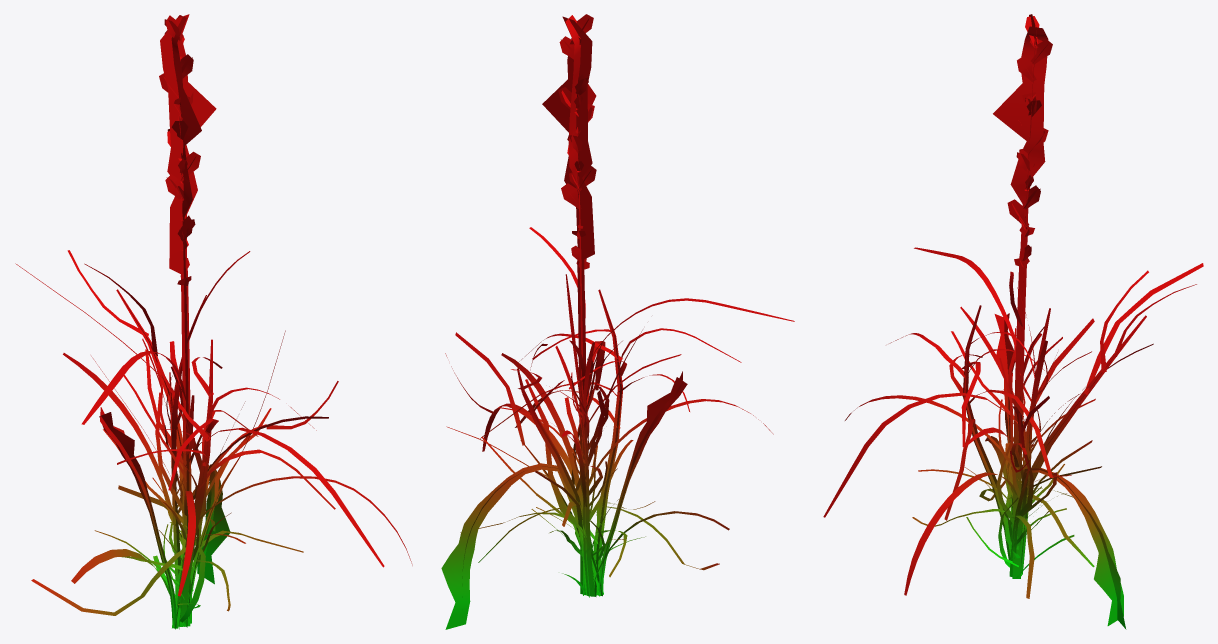
Rendered from Var5_LOD1.fbx.
3 views of the same model, side by side, from view 1: azimuth 30°, elevation 25°; view 2: azimuth 150°, elevation 25°; view 3: azimuth 270°, elevation 25° (orthographic). The views are drawn at different scales.
Visible parts, largest first — view 1: _850a_Var5_LOD1; view 2: _850a_Var5_LOD1; view 3: _850a_Var5_LOD1.
Part boxes in pixels (x1,y1,x2,y2): _850a_Var5_LOD1: (15,14,412,629); _850a_Var5_LOD1: (441,14,794,629); _850a_Var5_LOD1: (823,14,1203,629).
Bounding box in the file's own units: 19.96 × 36.24 × 21.77.
